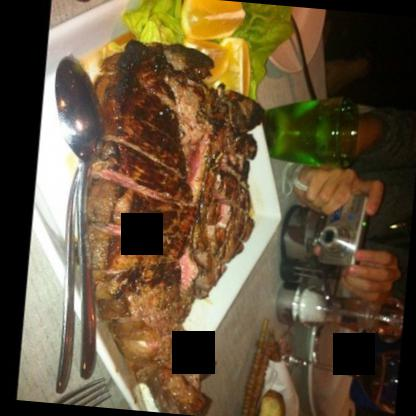beef: (62, 51, 235, 415), (160, 70, 263, 297)
lemon: (177, 0, 249, 45)
